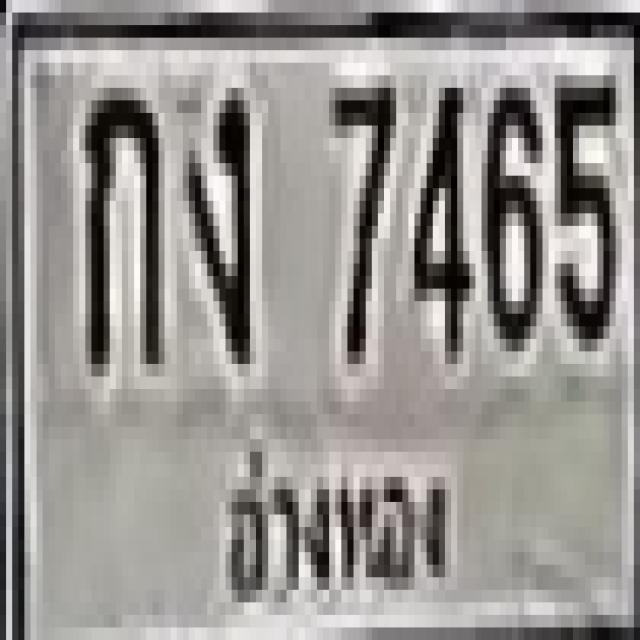-: (80, 75, 158, 364), (183, 81, 250, 358)
4: (408, 76, 469, 352)
5: (552, 63, 612, 339)
6: (482, 75, 536, 339)
7: (329, 76, 390, 352)
ATG: (208, 430, 462, 614)
